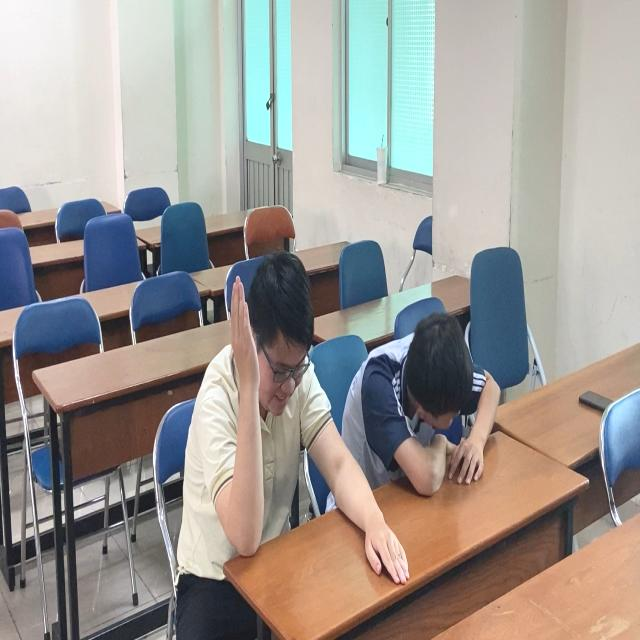raise_hand: (199, 245, 337, 568)
sleep: (341, 314, 513, 514)
